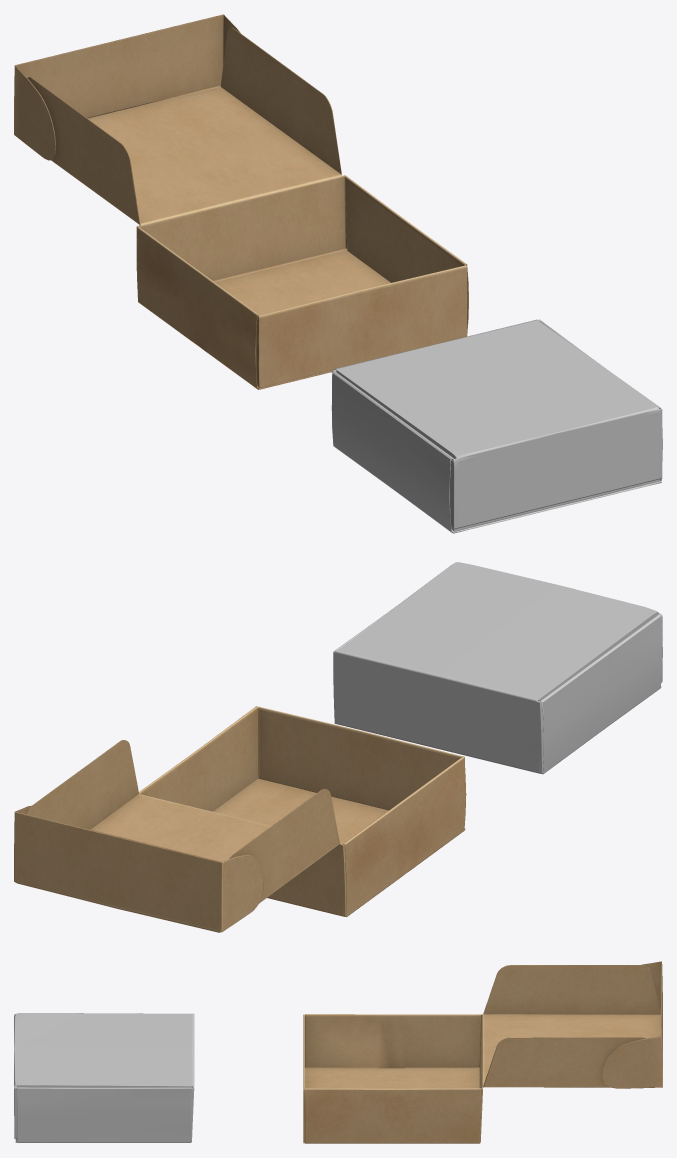
The model's file is Version obj con partes discriminadas2.obj.
The picture shows the model from 3 angles, top to bottom: view 1: azimuth 30°, elevation 25°; view 2: azimuth 150°, elevation 25°; view 3: azimuth 270°, elevation 25°; orthographic projection. The views are drawn at different scales.
Parts seen in each view (by area): view 1: Open_Box, A5, B6, B2, A2, B3, A3, B5, Closed_Box; view 2: Open_Box, A5, A4, B7, B3, A3, B6, Closed_Box, B5, B8; view 3: Open_Box, A5, A1, B1, B6, B5, Closed_Box.
Boxes of the visible parts, bbox=[...] form: Open_Box: bbox=[14, 14, 468, 389]; A5: bbox=[337, 321, 656, 456]; B6: bbox=[93, 93, 340, 223]; B2: bbox=[261, 269, 465, 386]; A2: bbox=[458, 412, 658, 527]; B3: bbox=[137, 229, 256, 387]; A3: bbox=[332, 373, 451, 531]; B5: bbox=[215, 250, 388, 315]; Closed_Box: bbox=[331, 319, 662, 533]; Open_Box: bbox=[14, 706, 466, 932]; A5: bbox=[339, 562, 656, 698]; A4: bbox=[337, 654, 538, 770]; B7: bbox=[17, 814, 218, 928]; B3: bbox=[345, 758, 465, 915]; A3: bbox=[543, 616, 662, 773]; B6: bbox=[92, 794, 270, 861]; Closed_Box: bbox=[333, 562, 662, 774]; B5: bbox=[215, 779, 388, 844]; B8: bbox=[269, 845, 341, 913]; Open_Box: bbox=[303, 961, 662, 1143]; A5: bbox=[14, 1013, 191, 1085]; A1: bbox=[17, 1088, 191, 1142]; B1: bbox=[305, 1089, 480, 1142]; B6: bbox=[483, 1014, 654, 1084]; B5: bbox=[304, 1068, 478, 1088]; Closed_Box: bbox=[14, 1013, 194, 1142].
Bounding box in the file's own units: 15.47 × 10 × 54.89.
